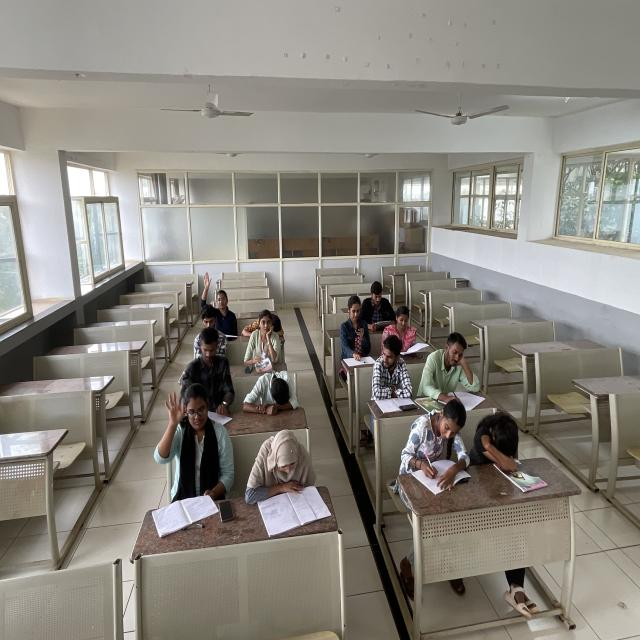Hand Rising: (151, 384, 237, 511), (198, 269, 234, 326)
Reading: (239, 426, 338, 533), (370, 334, 415, 414), (382, 304, 426, 353), (361, 279, 397, 329)
Sleeping: (469, 406, 524, 472), (240, 366, 301, 418)
Using Phone: (340, 295, 370, 351)
Writing: (400, 396, 471, 498), (176, 324, 230, 426), (422, 330, 482, 411)
